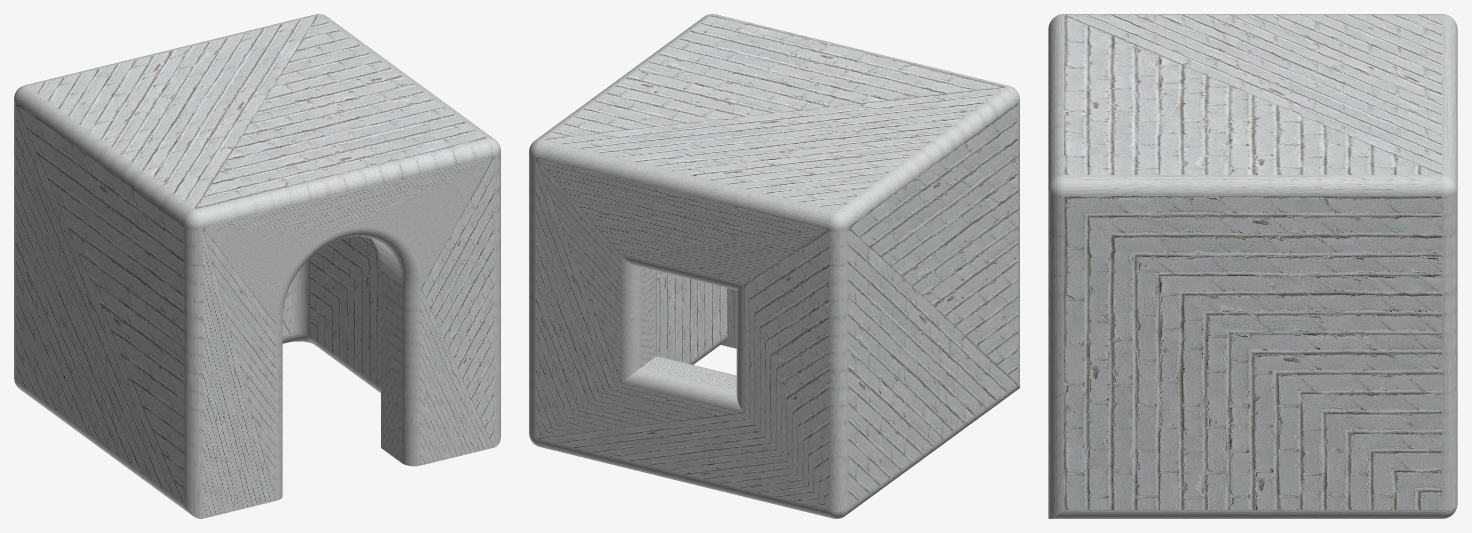
The model's file is bunker.dae.
3 views of the same model, side by side, from view 1: azimuth 30°, elevation 25°; view 2: azimuth 150°, elevation 25°; view 3: azimuth 270°, elevation 25° (orthographic). The views are drawn at different scales.
Visible parts, largest first — view 1: _STL_BINARY_; view 2: _STL_BINARY_; view 3: _STL_BINARY_.
Boxes of the visible parts, box(x1,y1,x2,y2) form: _STL_BINARY_: box(14, 14, 500, 518); _STL_BINARY_: box(529, 14, 1019, 518); _STL_BINARY_: box(1048, 14, 1457, 518).
Size of the model in its own units: 5.94 by 5.94 by 5.48.
Materials: 1 (1 with a texture image).
